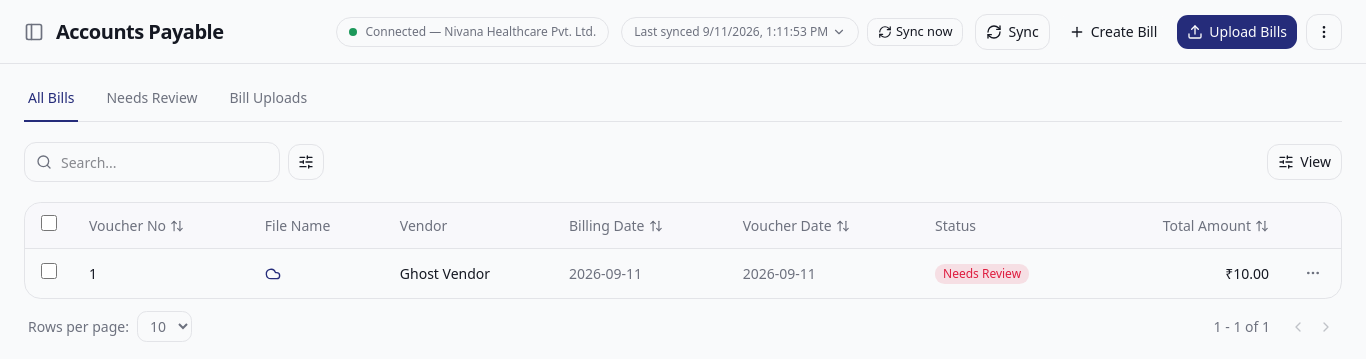
Test case: AccountsPayablePage › lists a failed draft in Needs Review with its error messages
Expected: the text "Ghost Vendor" is shown, [384,248,553,298]
Click the button "Needs Review" at (152, 105), box [102,88,202,122]
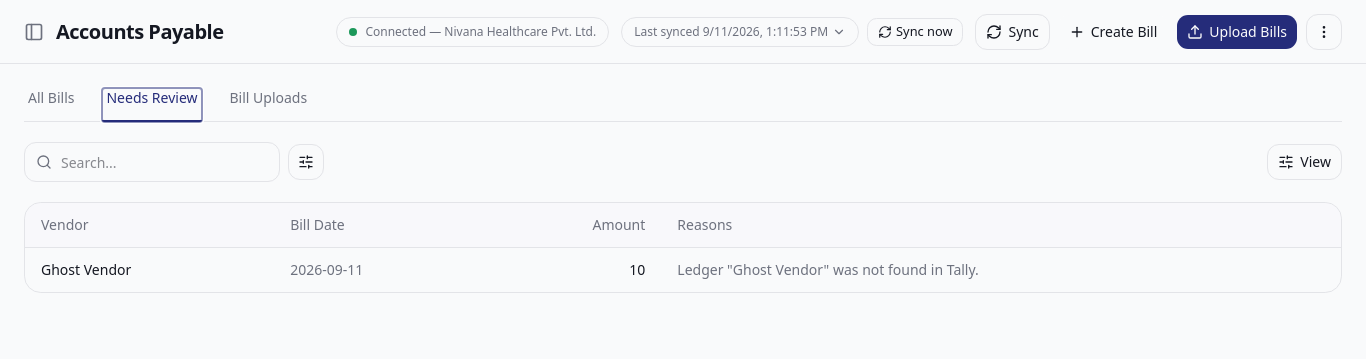
Result: the text "Ledger \"Ghost Vendor\" was not found in Tally." is shown at [661,248,1341,292]
